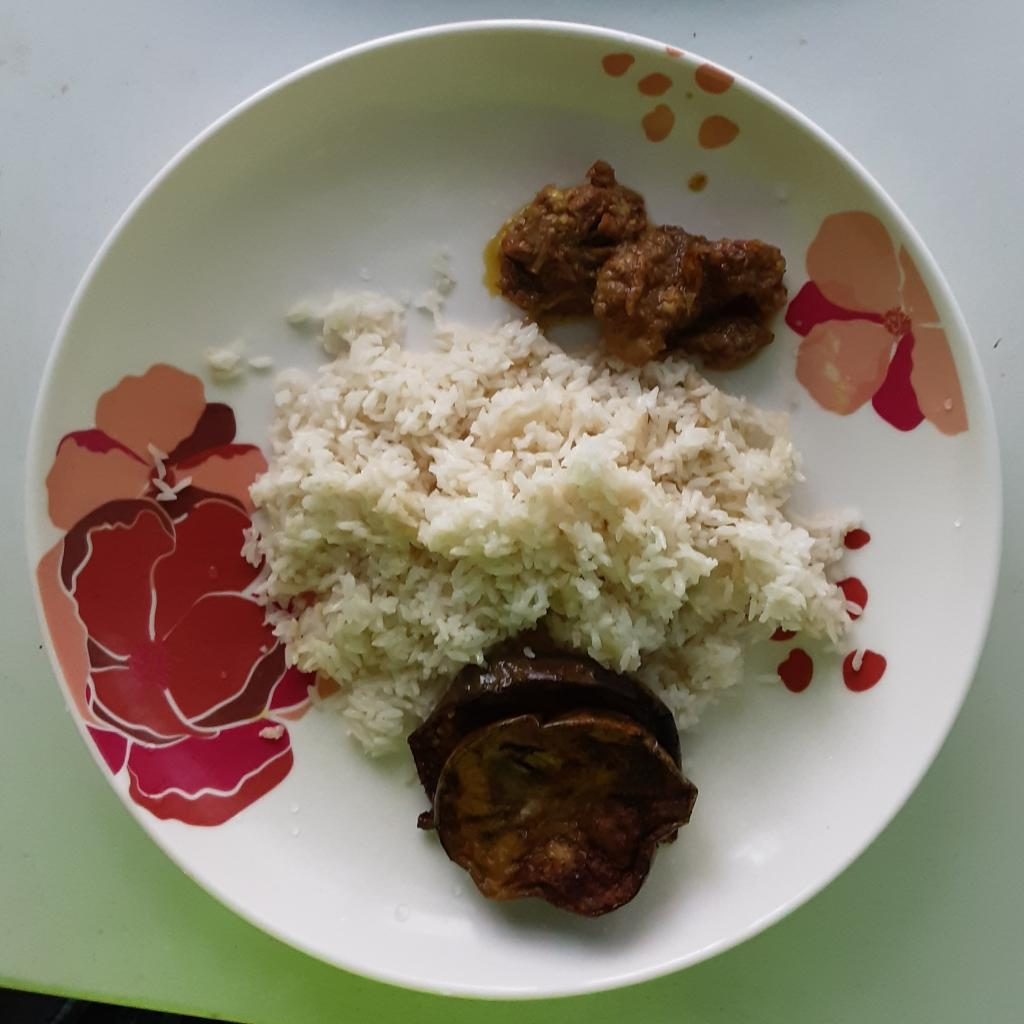beef: (495, 158, 792, 366)
begun-vaji: (405, 627, 695, 916)
rice: (208, 279, 868, 760)
